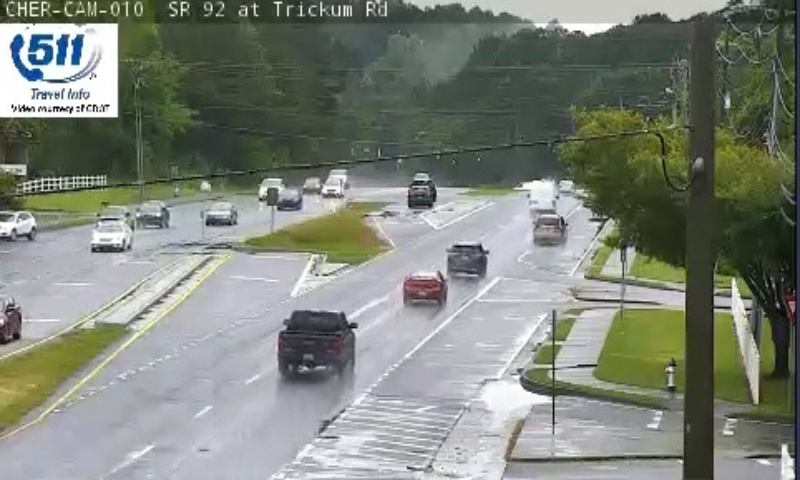car: (277, 312, 355, 368), (447, 242, 487, 275), (402, 270, 447, 299), (532, 214, 565, 243)
van: (526, 182, 557, 218)
